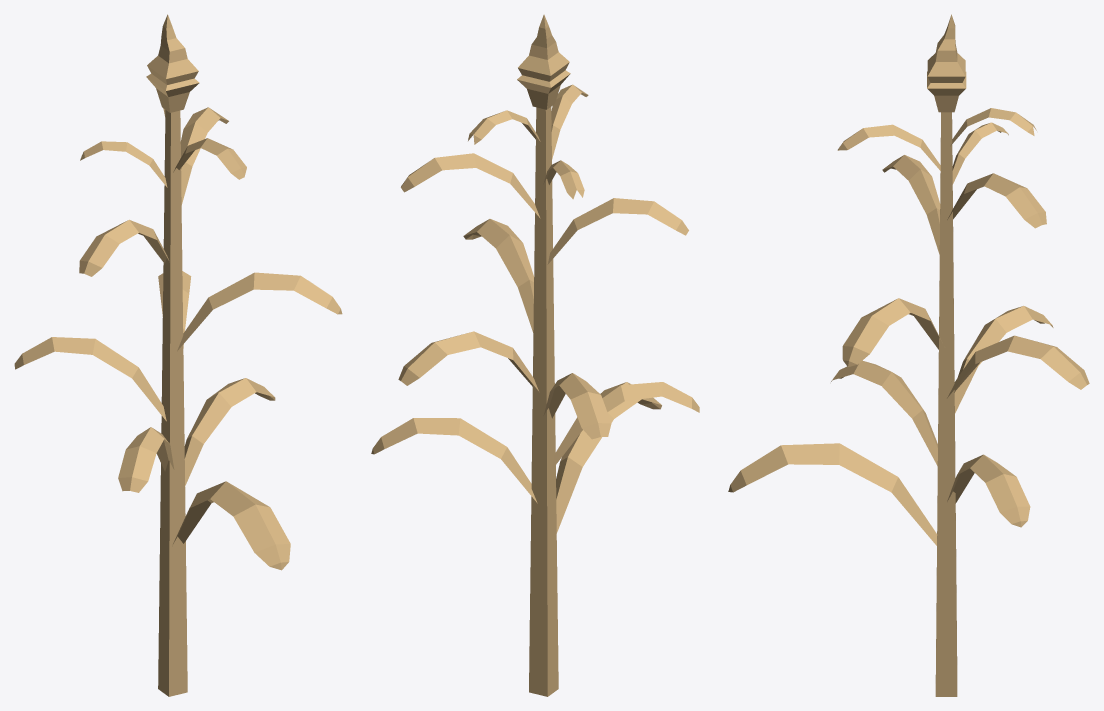
The model's file is Mega_Asset_s_Pack_Cube_376.FBX.
3 views of the same model, side by side, from view 1: azimuth 30°, elevation 25°; view 2: azimuth 150°, elevation 25°; view 3: azimuth 270°, elevation 25° (orthographic).
Parts seen in each view (by area): view 1: Mega_Asset_s_Pack_Cube_376; view 2: Mega_Asset_s_Pack_Cube_376; view 3: Mega_Asset_s_Pack_Cube_376.
Part boxes in pixels (x1=…): Mega_Asset_s_Pack_Cube_376: x1=14, y1=14, x2=342, y2=696; Mega_Asset_s_Pack_Cube_376: x1=371, y1=14, x2=699, y2=696; Mega_Asset_s_Pack_Cube_376: x1=728, y1=14, x2=1089, y2=696.
Size of what is drawn, in the model's own units: 75 by 92.95 by 192.
